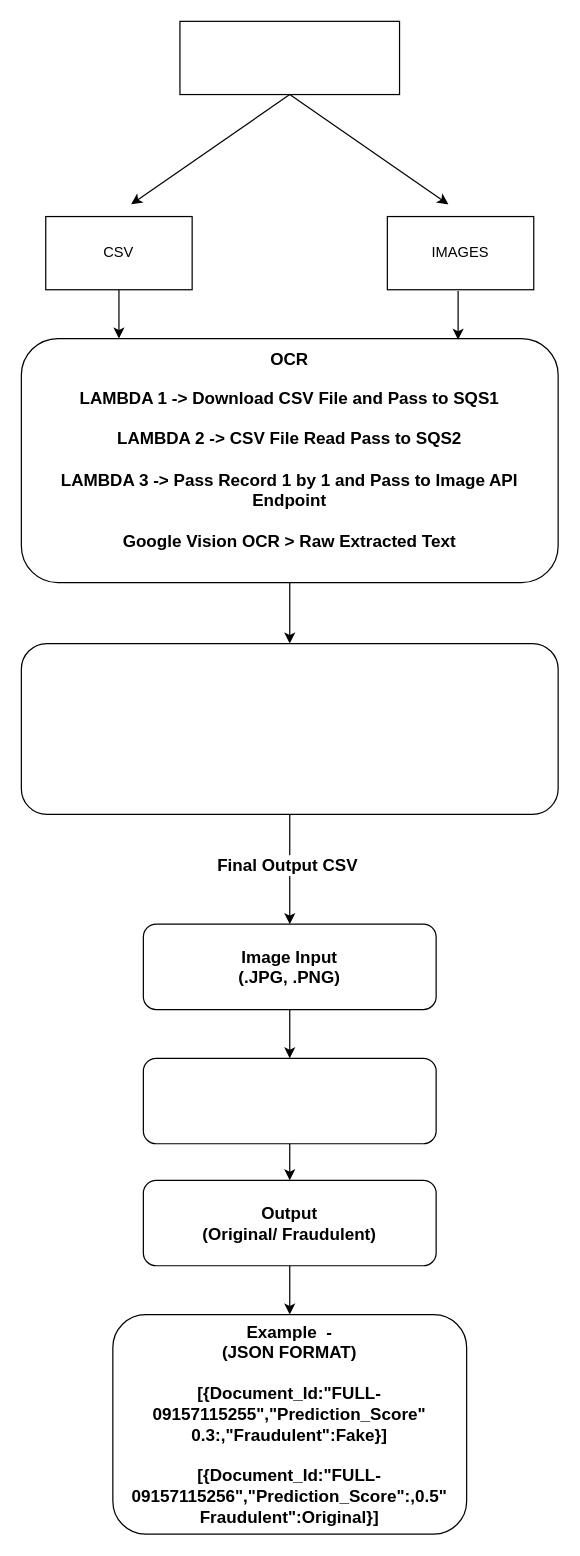
The diagram is 580 pixels wide and 1556 high, and some of its shapes have lost their labels. Here are the shapes that lost their labels. From the top down, the centre of each, then its label:
the point at 289,57: CLIENT ENDPOINT
the point at 289,728: KYC Image > ML Script of KYC Write Cols to OCR Final Output CSV
the point at 289,1100: Prediction Score (0.5/ 0.4)
